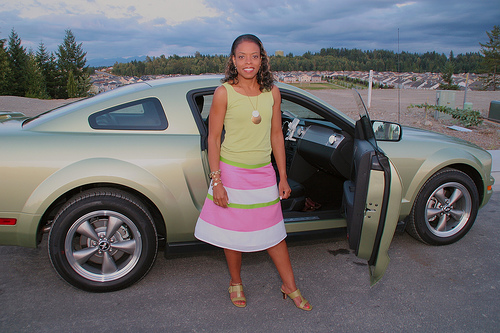without_mask: (231, 41, 263, 81)
